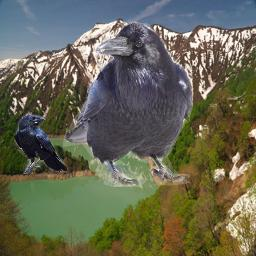Crow: (63, 20, 193, 187), (14, 114, 69, 174)
